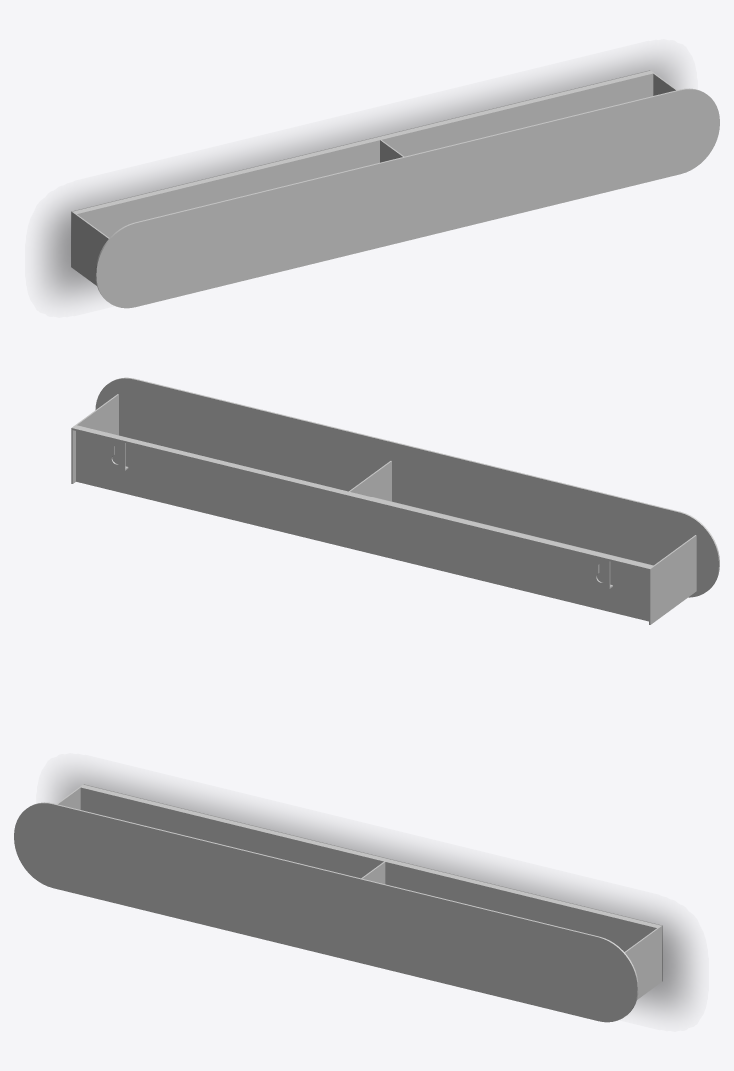
Rendered from round-double.69a16f9fd4.ar.glb.
The picture shows the model from 3 angles, top to bottom: view 1: azimuth 30°, elevation 25°; view 2: azimuth 150°, elevation 25°; view 3: azimuth 330°, elevation 25°; orthographic projection.
Parts seen in each view (by area): view 1: NAUO1, object 3; view 2: NAUO1, NAUO2; view 3: NAUO1, object 3.
Part boxes in pixels (left/top/right/bottom): NAUO1: left=71, top=70, right=719, bottom=308; object 3: left=42, top=59, right=679, bottom=297; NAUO1: left=71, top=377, right=719, bottom=624; NAUO2: left=107, top=438, right=612, bottom=588; NAUO1: left=14, top=784, right=662, bottom=1022; object 3: left=54, top=773, right=691, bottom=1011.
Bounding box in the file's own units: 0.78 × 0.17 × 0.092.
2 materials, 1 textured.
